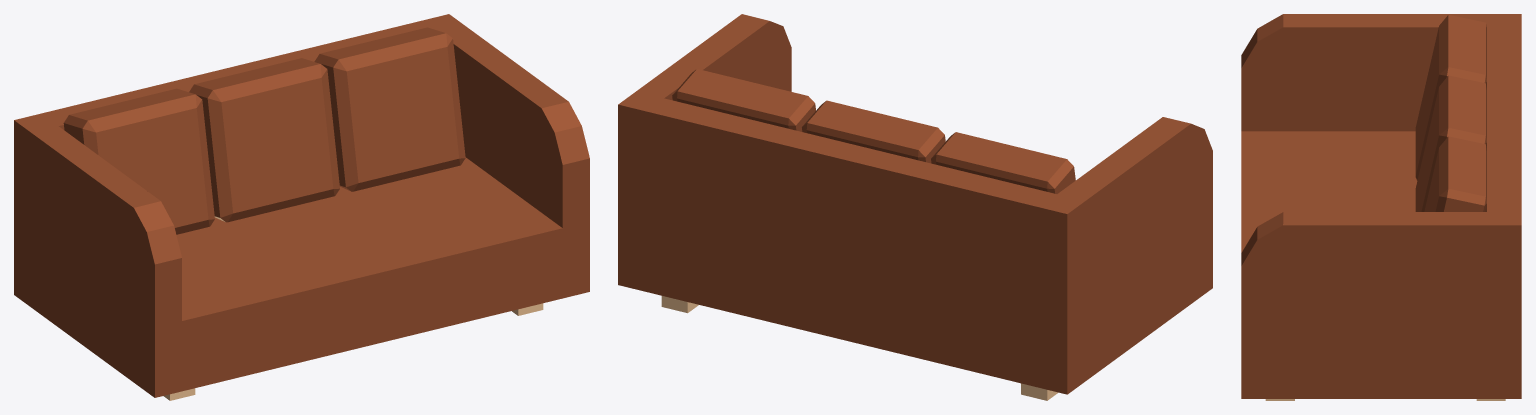
The model's file is Sofa.fbx.
The picture shows the model from 3 angles, left to right: view 1: azimuth 30°, elevation 25°; view 2: azimuth 150°, elevation 25°; view 3: azimuth 270°, elevation 25°; orthographic projection. The views are drawn at different scales.
Parts seen in each view (by area): view 1: Sofa; view 2: Sofa; view 3: Sofa.
Part boxes in pixels (<box>): Sofa: <box>14,14,589,400</box>; Sofa: <box>618,14,1212,400</box>; Sofa: <box>1241,14,1521,400</box>.
Bounding box in the file's own units: 200 × 92.6 × 112.
